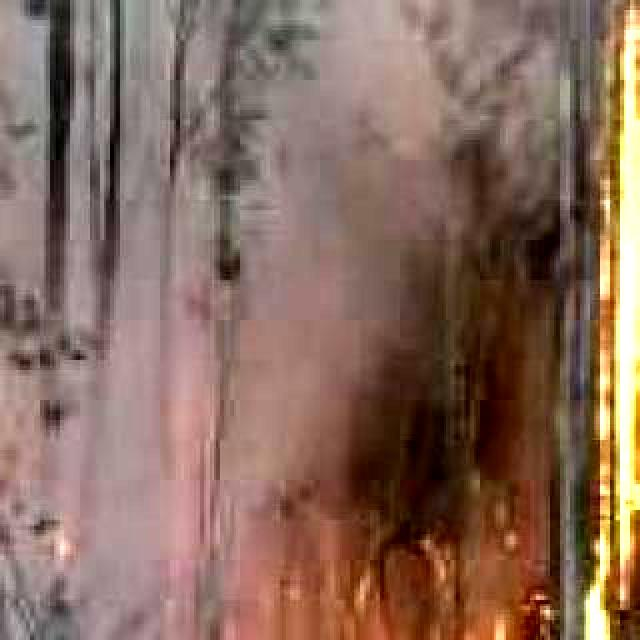fire: (590, 0, 640, 640)
